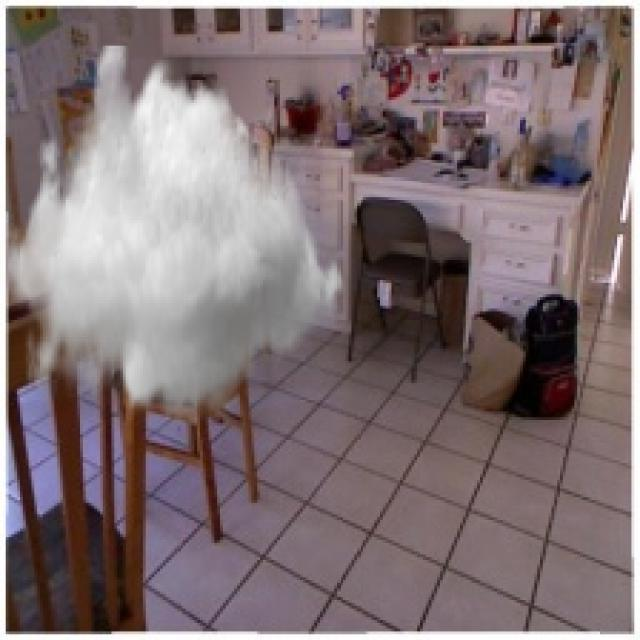Smoke: (6, 43, 352, 426)
